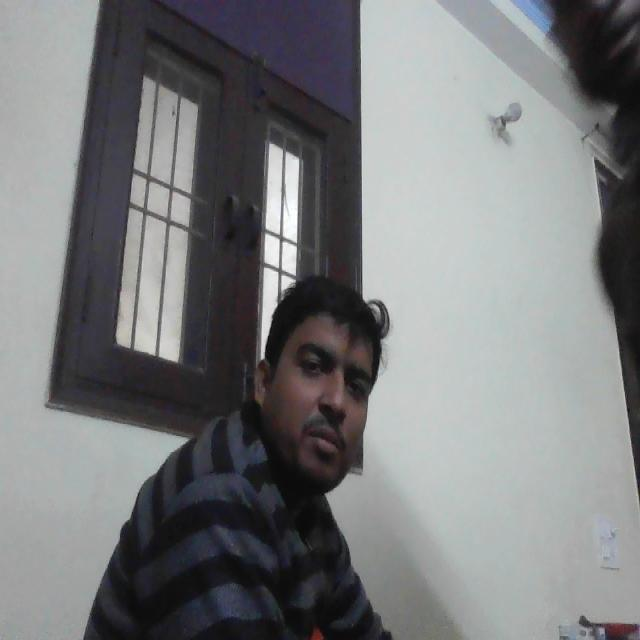real: (253, 260, 375, 491)
